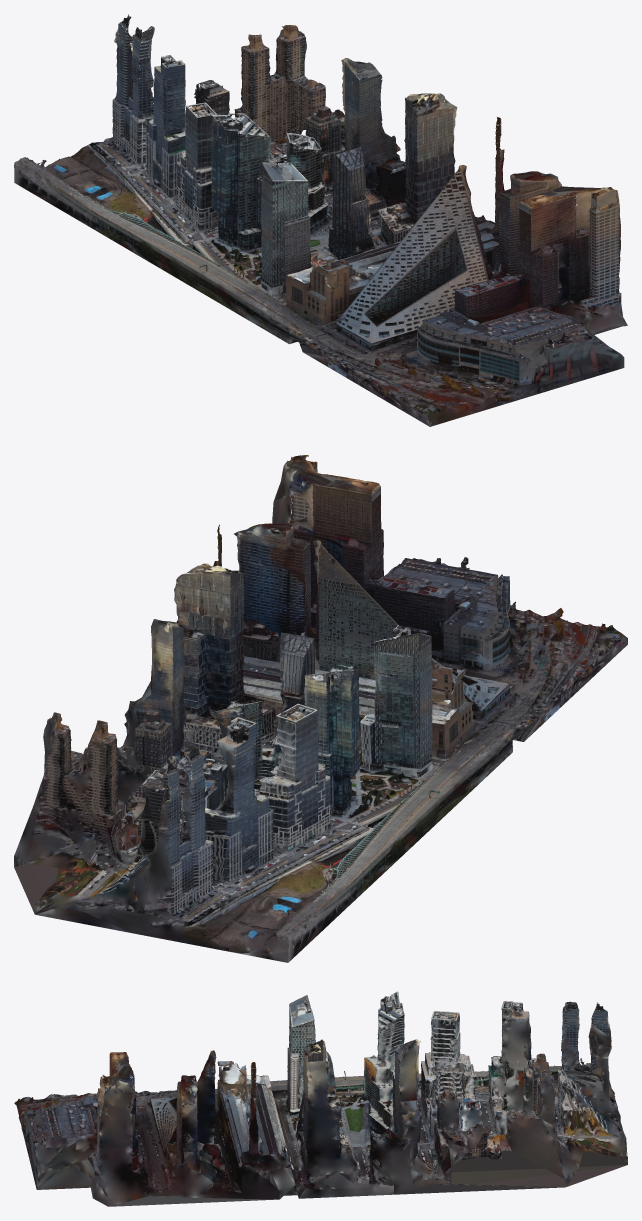
Rendered from sf-lincoln-square-ny-city-714fe3.glb.
3 renders of one model, top to bottom at view 1: azimuth 30°, elevation 25°; view 2: azimuth 150°, elevation 25°; view 3: azimuth 270°, elevation 25°, orthographic. The views are drawn at different scales.
Parts seen in each view (by area): view 1: LincolnSquare_LincolnSquare_u2_v1_0, LincolnSquare_LincolnSquare_u1_v1_0, LincolnSquare_LincolnSquare_u1_v2_0, LincolnSquare_LincolnSquare_u2_v2_0; view 2: LincolnSquare_LincolnSquare_u1_v1_0, LincolnSquare_LincolnSquare_u2_v1_0, LincolnSquare_LincolnSquare_u1_v2_0, LincolnSquare_LincolnSquare_u2_v2_0; view 3: LincolnSquare_LincolnSquare_u2_v1_0, LincolnSquare_LincolnSquare_u1_v1_0, LincolnSquare_LincolnSquare_u1_v2_0, LincolnSquare_LincolnSquare_u2_v2_0.
Part boxes in pixels (box(x1,y1,x2,y2)): LincolnSquare_LincolnSquare_u2_v1_0: box(32, 14, 627, 425); LincolnSquare_LincolnSquare_u1_v1_0: box(15, 15, 624, 426); LincolnSquare_LincolnSquare_u1_v2_0: box(14, 58, 620, 385); LincolnSquare_LincolnSquare_u2_v2_0: box(14, 27, 627, 426); LincolnSquare_LincolnSquare_u1_v1_0: box(14, 455, 626, 953); LincolnSquare_LincolnSquare_u2_v1_0: box(14, 456, 627, 953); LincolnSquare_LincolnSquare_u1_v2_0: box(71, 455, 522, 962); LincolnSquare_LincolnSquare_u2_v2_0: box(35, 484, 627, 962); LincolnSquare_LincolnSquare_u2_v1_0: box(14, 991, 627, 1206); LincolnSquare_LincolnSquare_u1_v1_0: box(16, 995, 627, 1206); LincolnSquare_LincolnSquare_u1_v2_0: box(39, 993, 616, 1199); LincolnSquare_LincolnSquare_u2_v2_0: box(15, 996, 627, 1198).
Size of the model in its own units: 58.49 by 28.5 by 120.
4 materials, 4 textured.
